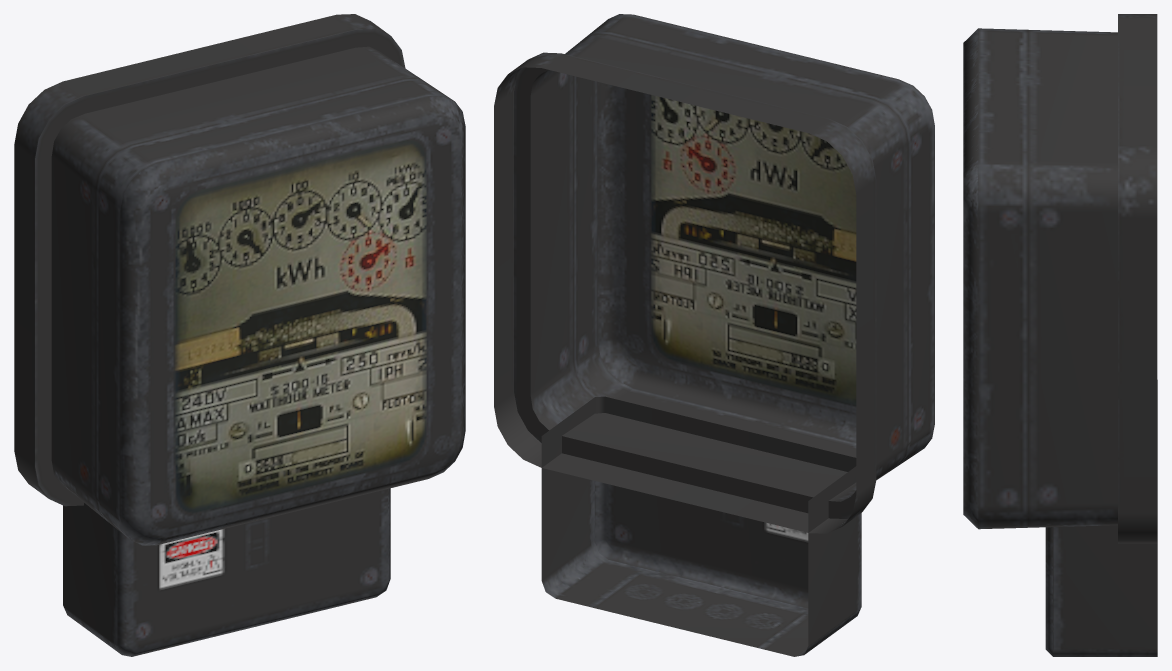
File: Electr_box4.fbx
3 renders of one model, left to right at view 1: azimuth 30°, elevation 25°; view 2: azimuth 150°, elevation 25°; view 3: azimuth 270°, elevation 25°, orthographic. The views are drawn at different scales.
Visible parts, largest first — view 1: polySurface329; view 2: polySurface329; view 3: polySurface329.
Boxes of the visible parts, <box> form: polySurface329: <box>14,14,465,656</box>; polySurface329: <box>494,14,934,656</box>; polySurface329: <box>963,14,1157,656</box>.
Size of the model in its own units: 34.87 by 48.49 by 16.53.
